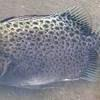Scat Fish: (1, 5, 99, 96)
